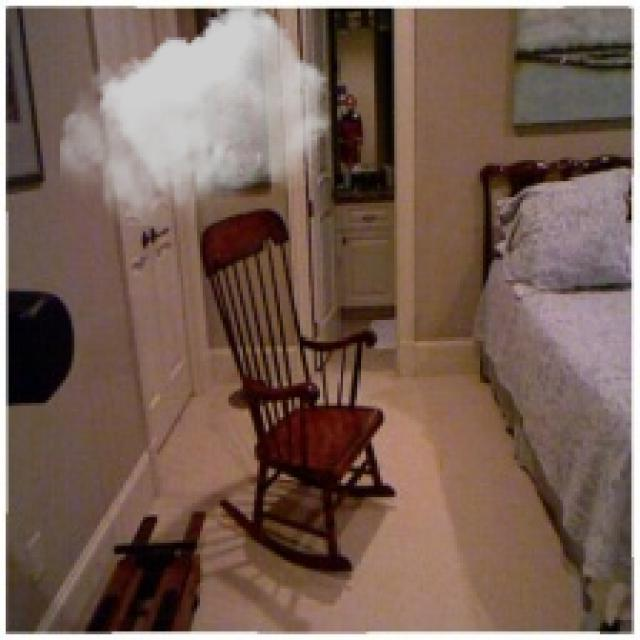smoke: (60, 6, 331, 226)
